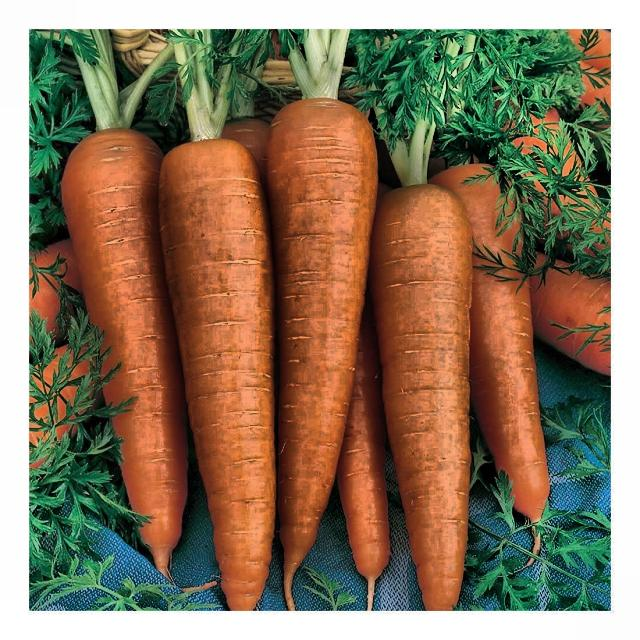carrot: (53, 53, 593, 608)
